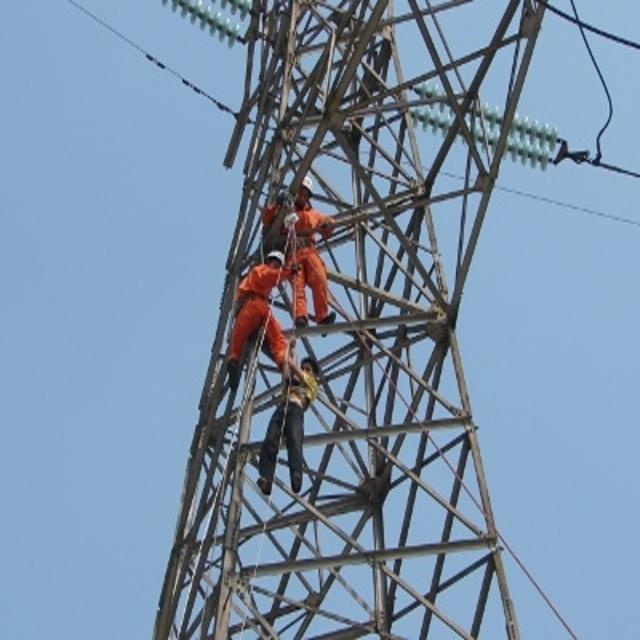non-critical vegetation: (138, 3, 562, 634)
